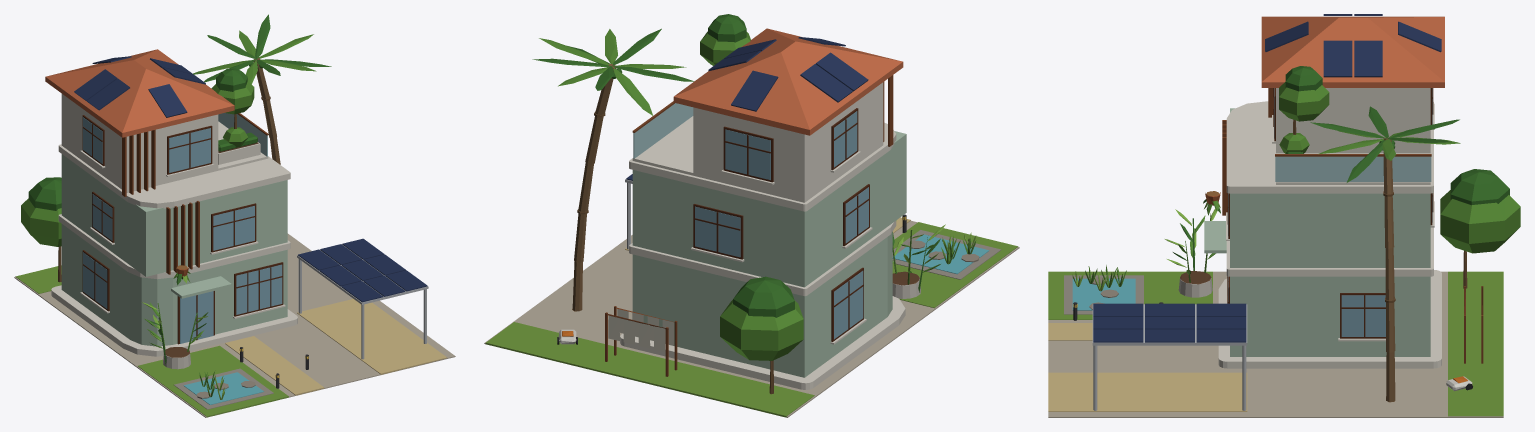
The model's file is house12_2.glb.
3 renders of one model, left to right at view 1: azimuth 30°, elevation 25°; view 2: azimuth 150°, elevation 25°; view 3: azimuth 270°, elevation 25°, orthographic. The views are drawn at different scales.
Visible parts, largest first — view 1: body; view 2: body; view 3: body.
Part boxes in pixels (<box>): body: <box>14,14,455,417</box>; body: <box>484,14,1019,417</box>; body: <box>1048,14,1520,417</box>.
Size of the model in its own units: 12.13 by 11.26 by 16.5.
